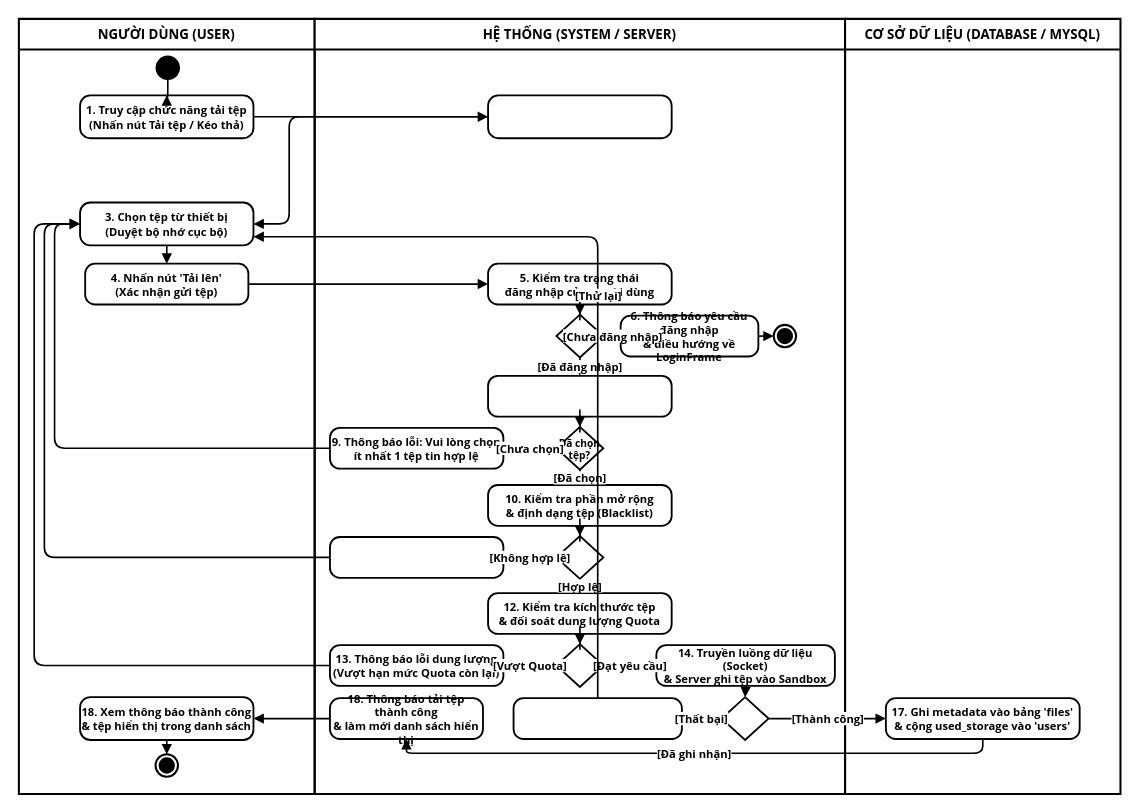
Image size: 1138x812. Some labels were removed from this diagram. Each missing label, with the centre of its shape:
11. Thông báo lỗi định dạng (Định dạng bị cấm / không hợp lệ): the point at 416,557
16. Xóa tệp tạm, báo lỗi truyền & cho phép người dùng tải lại: the point at 597,718
2. Hiển thị giao diện tải tệp (Mở hộp thoại JFileChooser): the point at 579,116
7. Kiểm tra tệp được chọn từ thiết bị người dùng: the point at 579,395
Dung lượng ≤ Quota?: the point at 579,665
Tải lên thành công?: the point at 744,718
Đã đăng nhập?: the point at 579,335
Định dạng hợp lệ?: the point at 579,557
